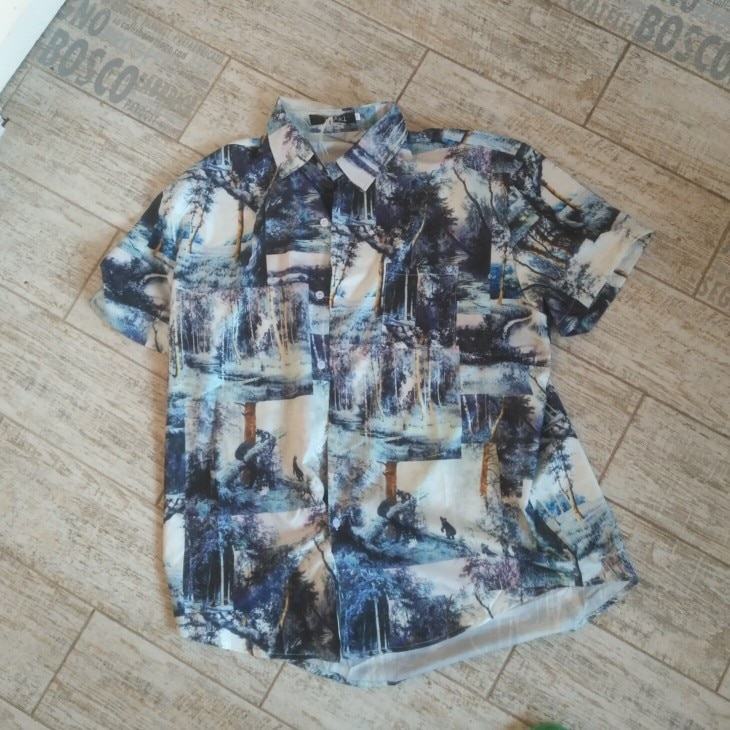shirts: (102, 98, 647, 668)
